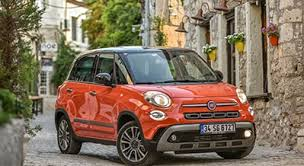car: (55, 49, 258, 165)
